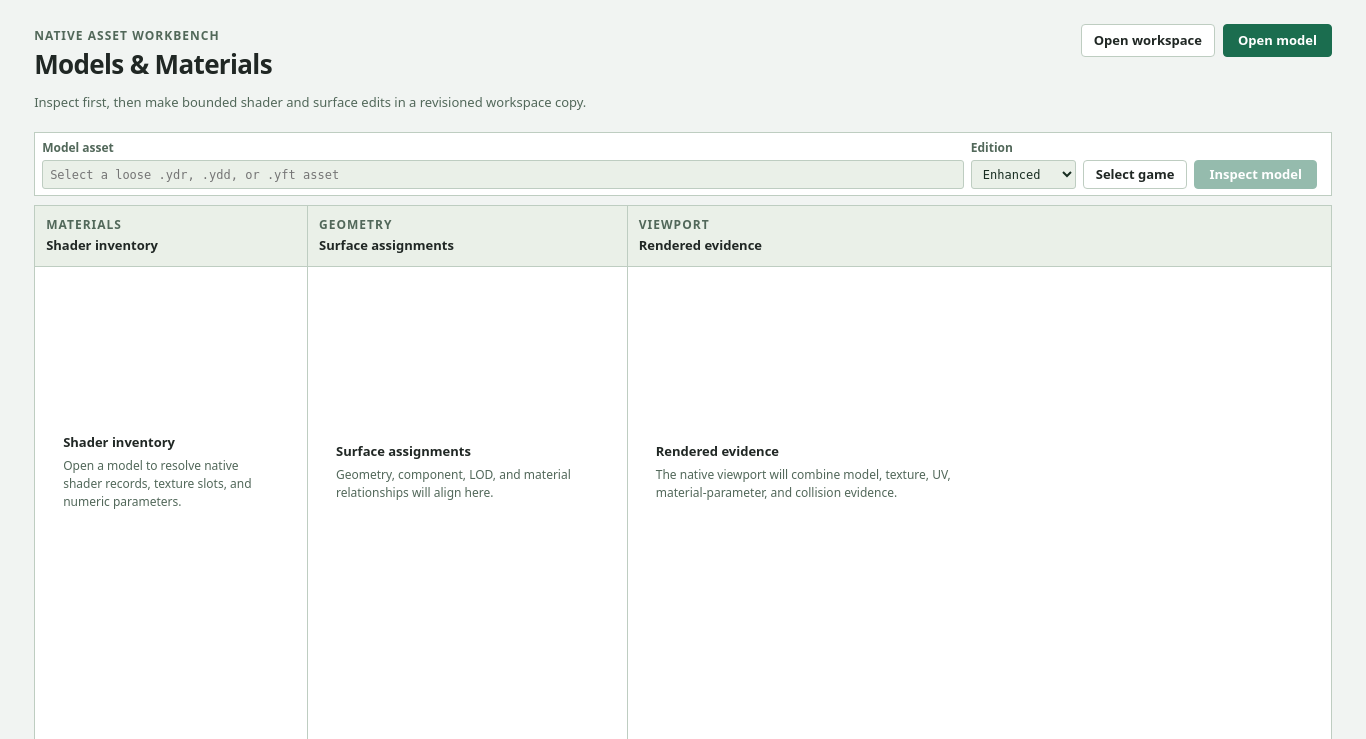
model inspection handles completion before the job-start promise
Click the button "Open workspace".
click(1148, 40)  # box 1081,24 -> 1215,57
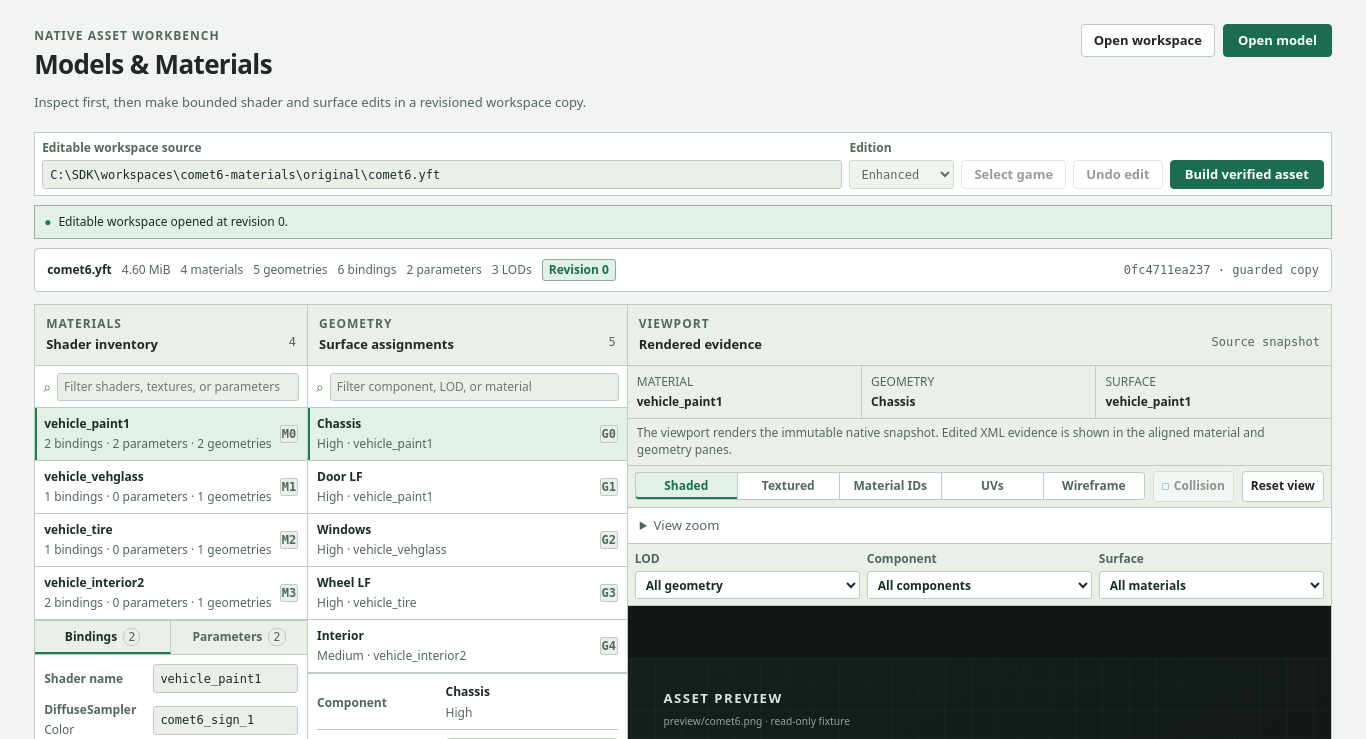
Result: the button "Build verified asset" is enabled at 1170,160 -> 1324,189
